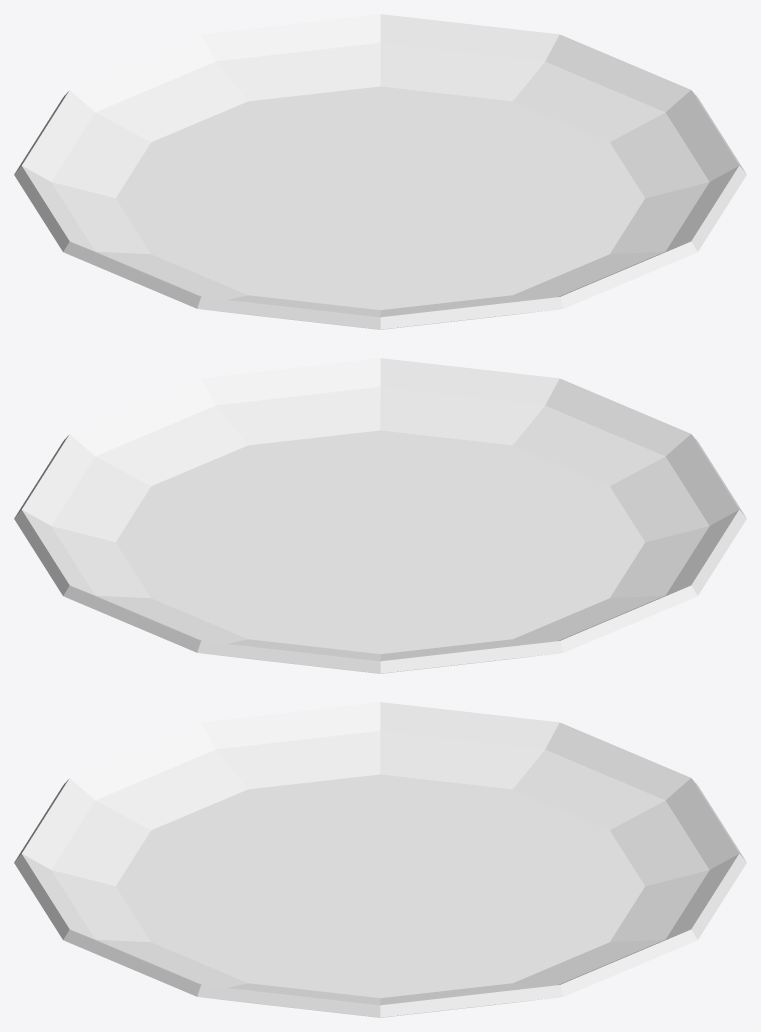
The model's file is Plate_001.glb.
The picture shows the model from 3 angles, top to bottom: view 1: azimuth 30°, elevation 25°; view 2: azimuth 150°, elevation 25°; view 3: azimuth 270°, elevation 25°; orthographic projection.
Parts seen in each view (by area): view 1: Plate_001; view 2: Plate_001; view 3: Plate_001.
Part boxes in pixels (<box>): Plate_001: <box>14,14,746,329</box>; Plate_001: <box>14,358,746,673</box>; Plate_001: <box>14,702,746,1017</box>.
Size of the model in its own units: 0.2317 by 0.0199 by 0.2317.
1 material, 1 textured.
